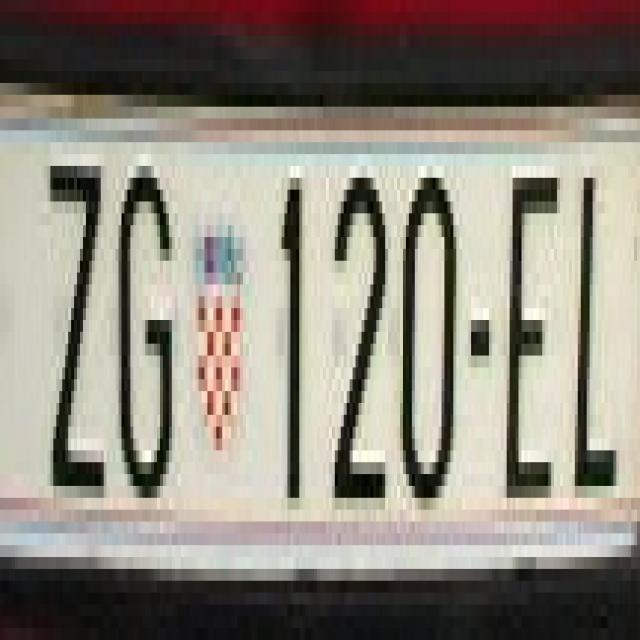0: (400, 166, 453, 510)
1: (278, 154, 302, 522)
2: (329, 154, 391, 522)
E: (503, 155, 558, 510)
G: (112, 155, 174, 510)
L: (560, 155, 616, 510)
Z: (42, 130, 106, 498)
